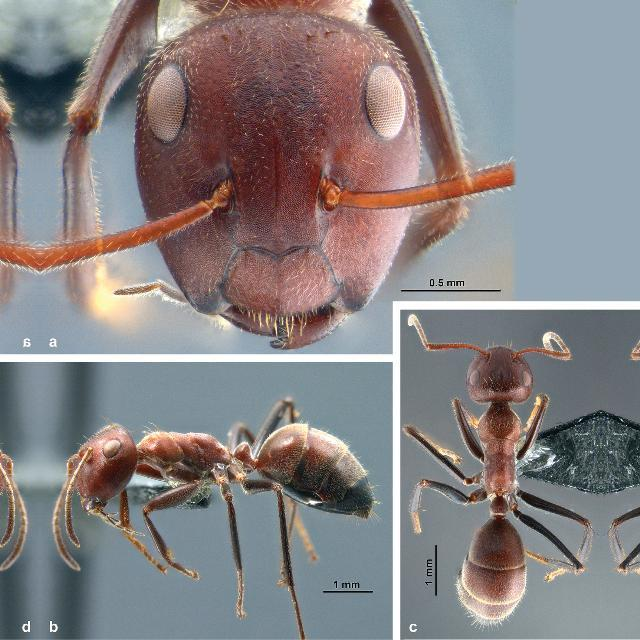Colobopsis: (41, 0, 430, 362), (39, 388, 385, 594), (408, 308, 584, 632)
